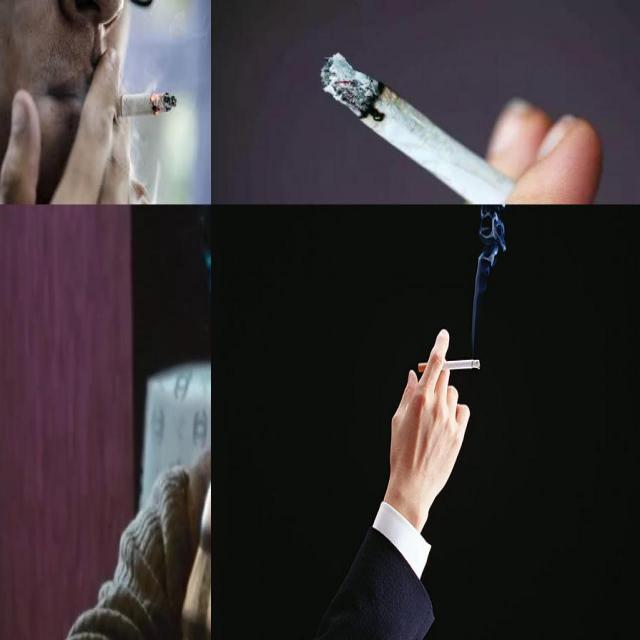cigarette: (319, 52, 557, 204), (92, 92, 178, 120), (418, 358, 480, 374)
